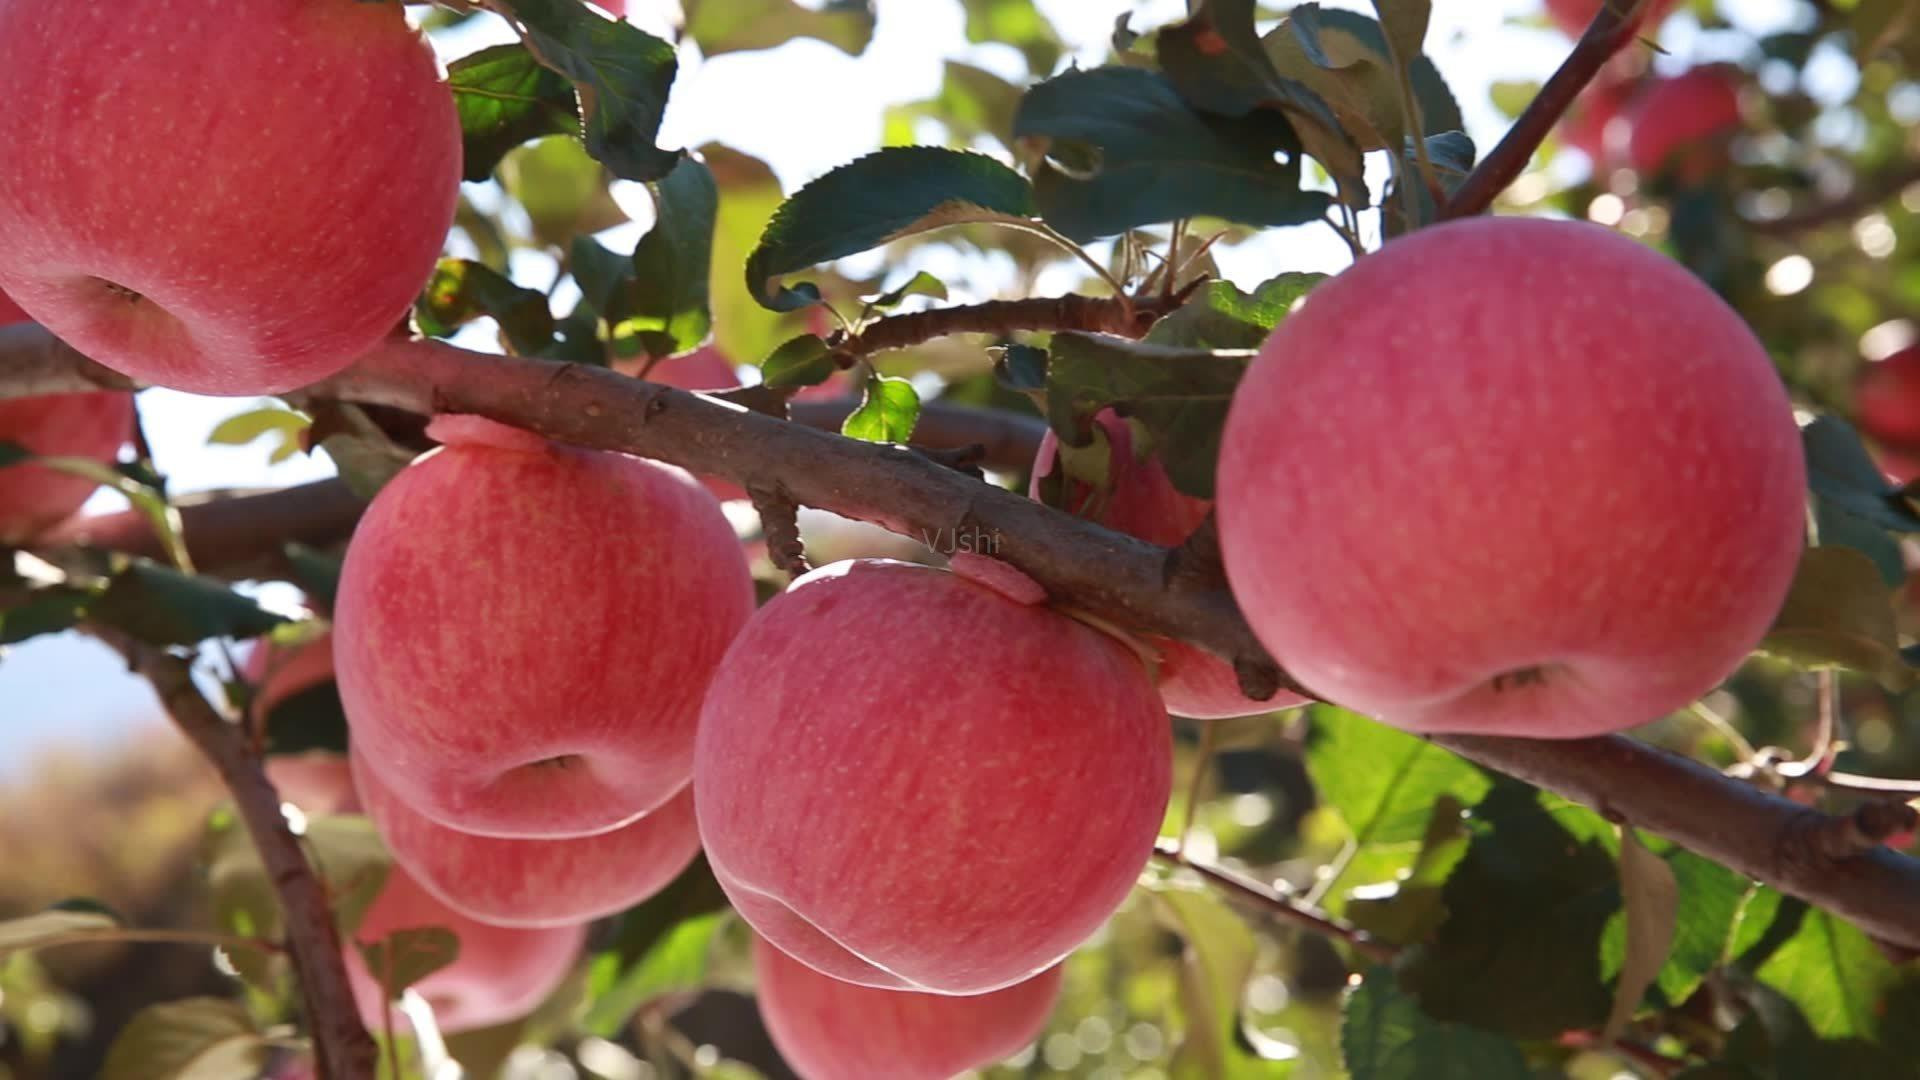apple: (1209, 218, 1793, 727), (700, 546, 1176, 1004), (1, 3, 462, 405), (332, 431, 756, 833), (347, 753, 703, 928), (502, 136, 611, 249)
